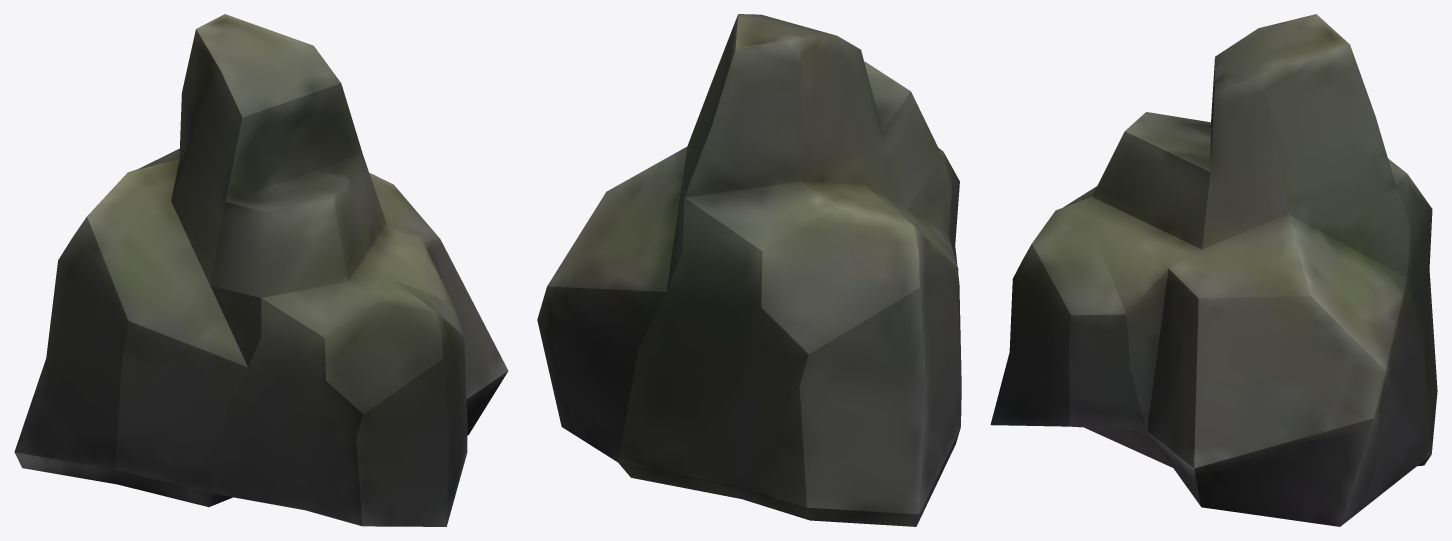
The model's file is rock.glb.
3 renders of one model, left to right at view 1: azimuth 30°, elevation 25°; view 2: azimuth 150°, elevation 25°; view 3: azimuth 270°, elevation 25°, orthographic. The views are drawn at different scales.
Parts seen in each view (by area): view 1: Rock_2; view 2: Rock_2; view 3: Rock_2.
Boxes of the visible parts, <box> form: Rock_2: <box>14,14,508,526</box>; Rock_2: <box>537,14,961,526</box>; Rock_2: <box>990,14,1437,526</box>.
Size of the model in its own units: 0.9485 by 1.01 by 0.9681.
1 material, 1 textured.
